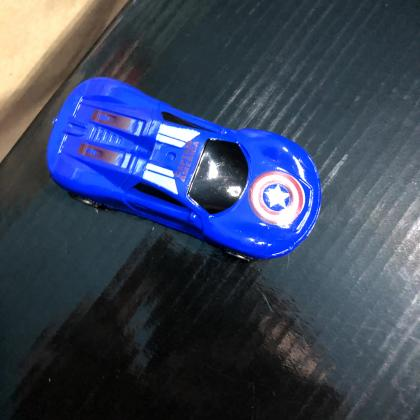Car: (45, 77, 323, 262)
